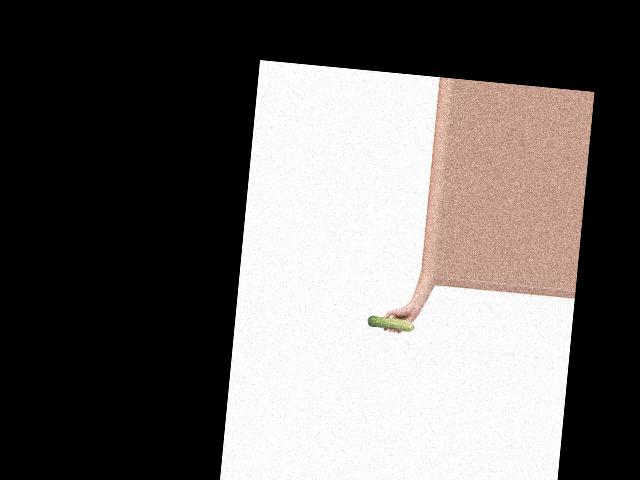cucumber: (366, 314, 415, 331)
